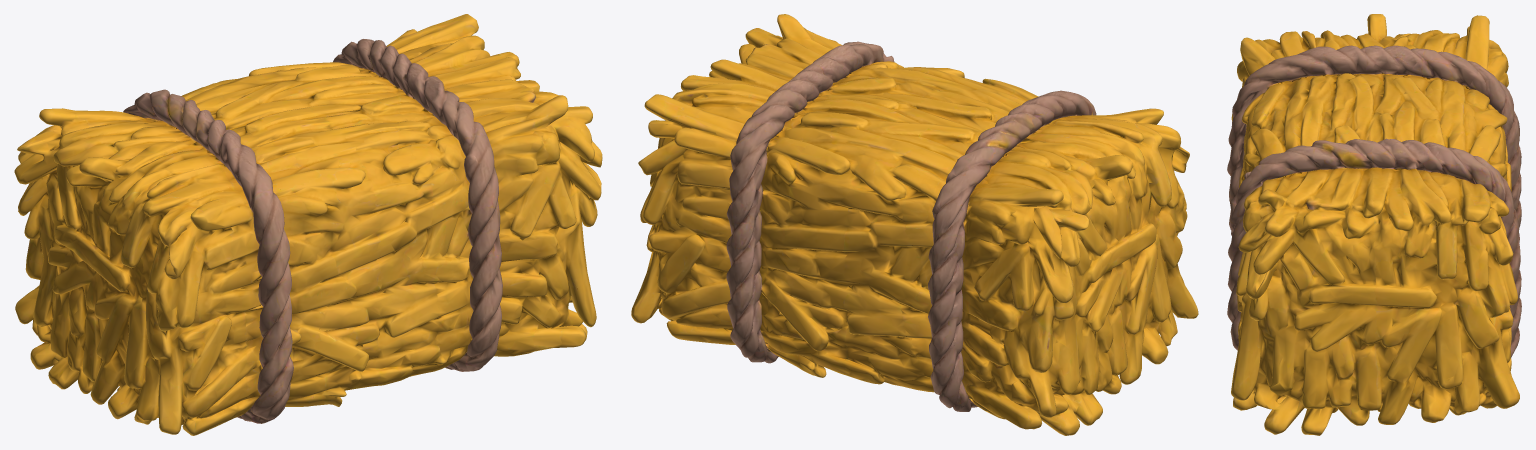
File: hay-bale.glb
The picture shows the model from 3 angles, left to right: view 1: azimuth 30°, elevation 25°; view 2: azimuth 150°, elevation 25°; view 3: azimuth 270°, elevation 25°; orthographic projection. The views are drawn at different scales.
Bounding box in the file's own units: 1.92 × 1.08 × 1.15.
Materials: 1 (1 with a texture image).
